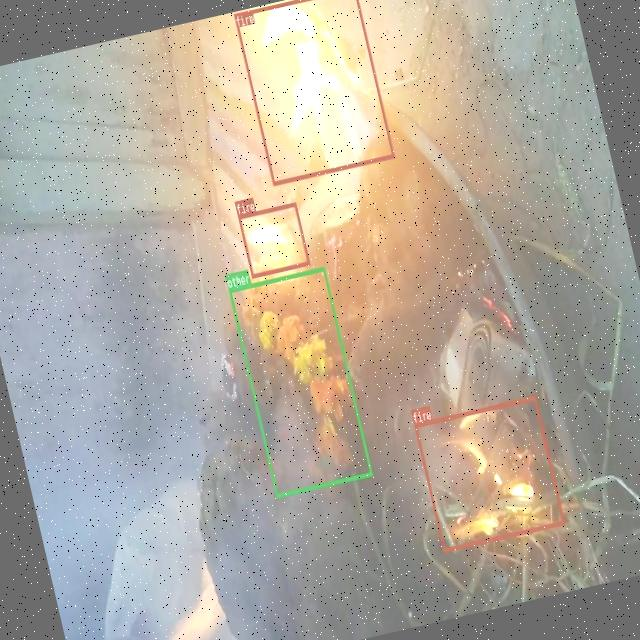fire: (232, 0, 394, 185), (413, 394, 564, 552), (237, 201, 310, 277)
